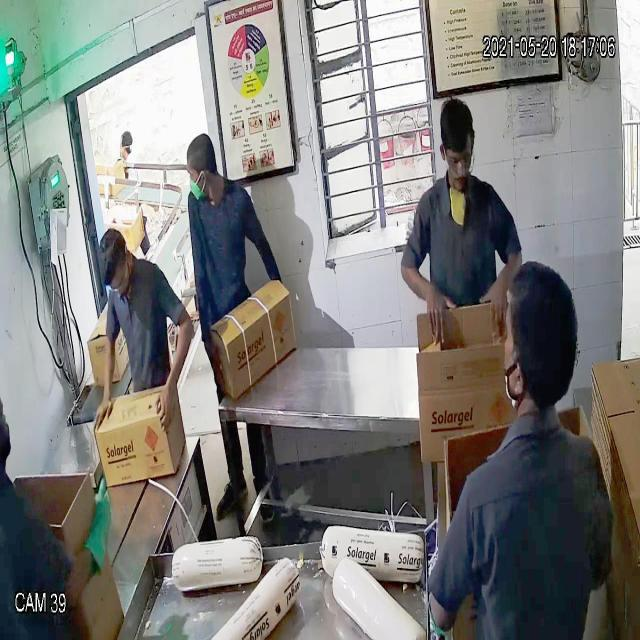glasses: (440, 133, 480, 185)
